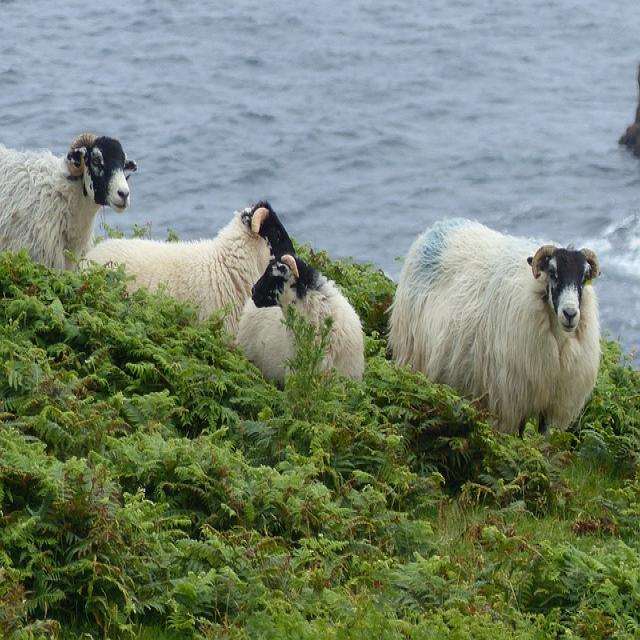sheep: (385, 214, 601, 438), (78, 198, 297, 342), (0, 131, 137, 272), (235, 252, 365, 389)
